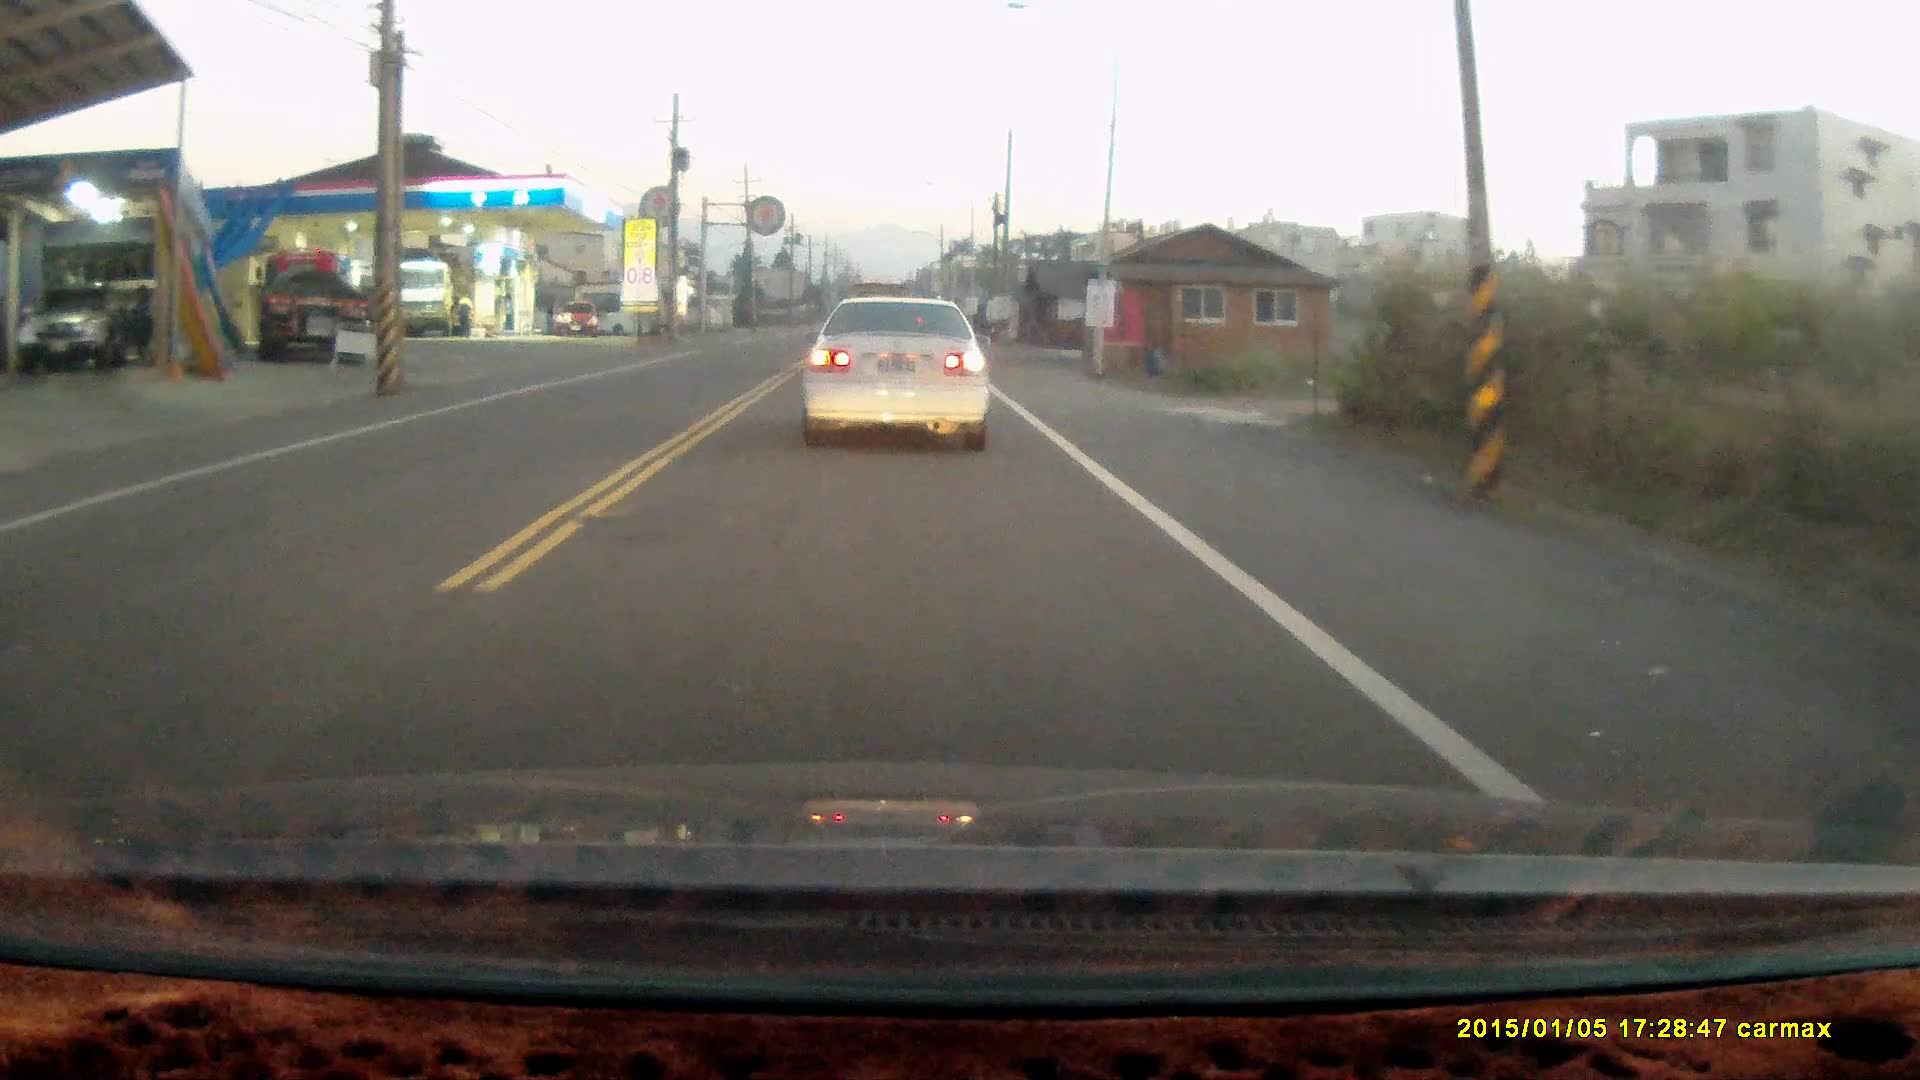pedestrian: (454, 289, 474, 334)
vehicle: (795, 287, 995, 451), (253, 244, 369, 356), (388, 253, 467, 337), (557, 302, 600, 339)
